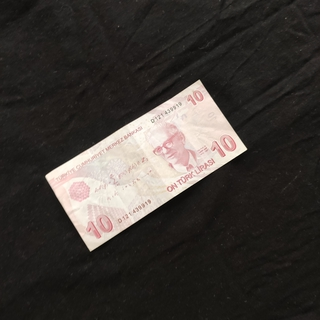10TLBack: (42, 77, 249, 253)
